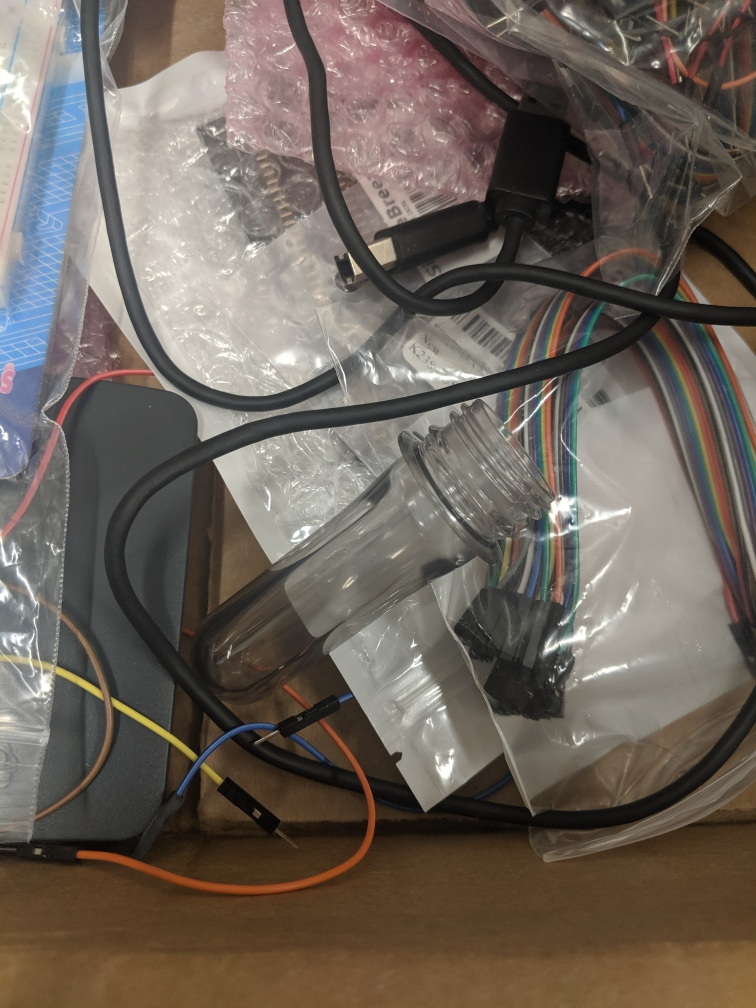preform: (179, 393, 558, 714)
